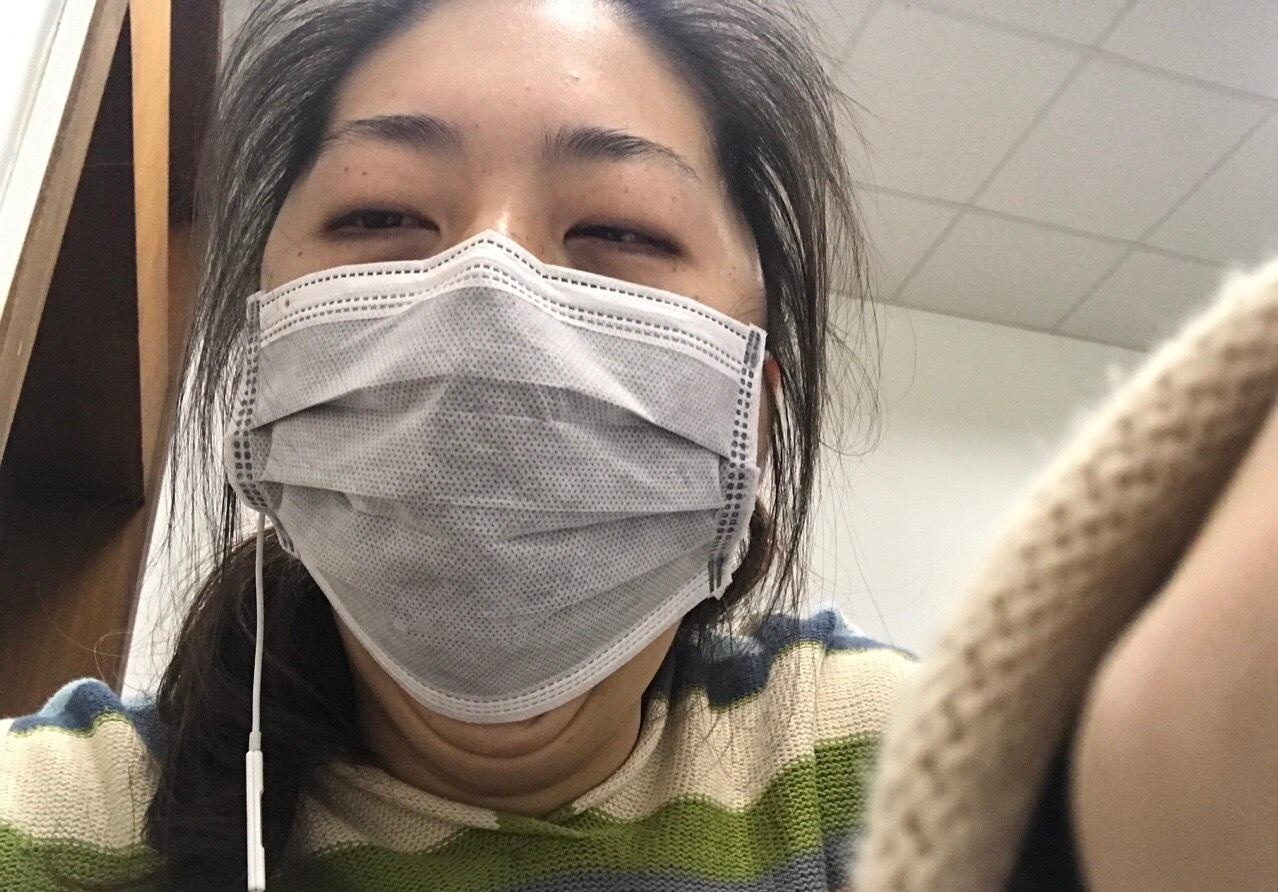Mask: (246, 107, 826, 687)
